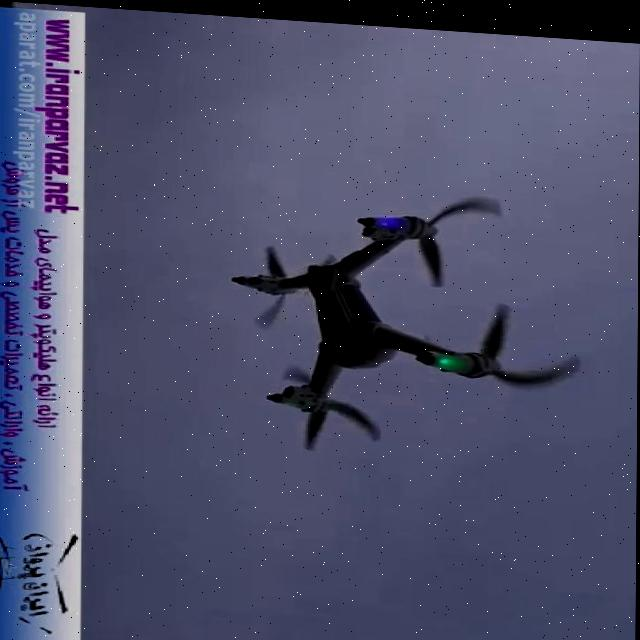drone: (214, 168, 591, 472)
